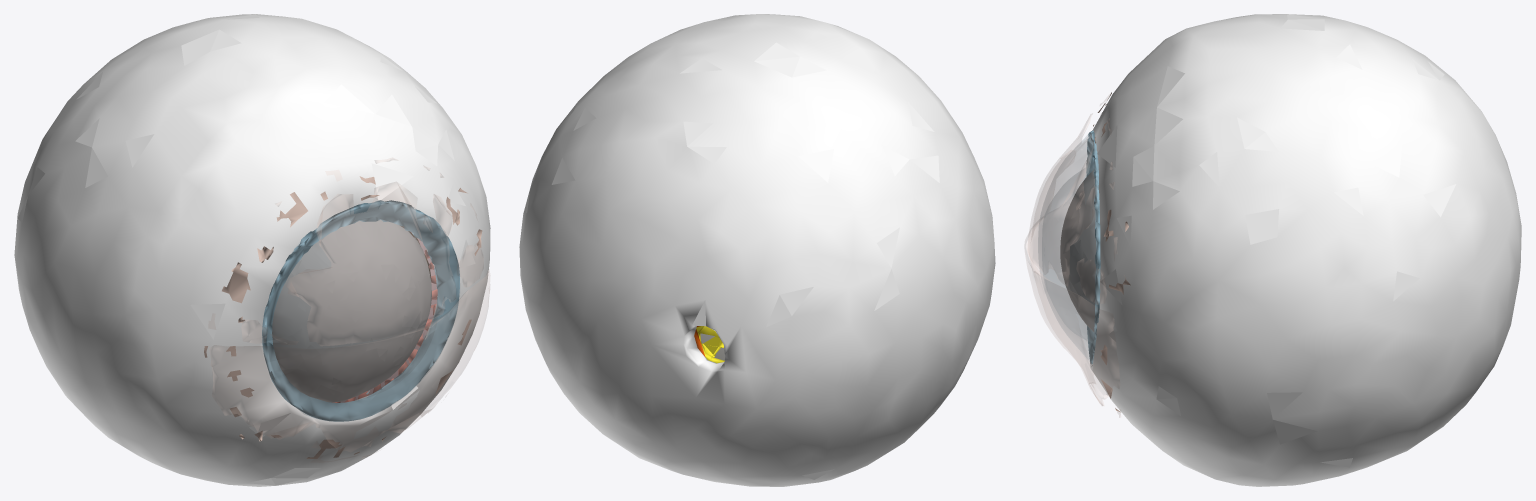
Rendered from 3d-vh-m-eye-l-20.glb.
The picture shows the model from 3 angles, left to right: view 1: azimuth 30°, elevation 25°; view 2: azimuth 150°, elevation 25°; view 3: azimuth 270°, elevation 25°; orthographic projection.
Visible parts, largest first — view 1: VH_M_sclera_L, VH_M_cornea_L, VH_M_palpebral_conjunctiva_of_lower_eyelid_L, VH_M_aqueous_humor_L, VH_M_palpebral_conjunctiva_of_upper_eyelid_L, VH_M_corneo_scleral_junction_L, VH_M_bulbar_conjunctiva_L, VH_M_ciliary_muscle_L; view 2: VH_M_sclera_L; view 3: VH_M_sclera_L, VH_M_cornea_L, VH_M_palpebral_conjunctiva_of_upper_eyelid_L, VH_M_palpebral_conjunctiva_of_lower_eyelid_L, VH_M_aqueous_humor_L, VH_M_corneo_scleral_junction_L, VH_M_bulbar_conjunctiva_L.
Part boxes in pixels (x1,y1,x2,y2): VH_M_sclera_L: [14, 14, 490, 486]; VH_M_cornea_L: [262, 202, 459, 421]; VH_M_palpebral_conjunctiva_of_lower_eyelid_L: [209, 270, 489, 462]; VH_M_aqueous_humor_L: [272, 220, 431, 402]; VH_M_palpebral_conjunctiva_of_upper_eyelid_L: [209, 158, 483, 345]; VH_M_corneo_scleral_junction_L: [262, 200, 459, 421]; VH_M_bulbar_conjunctiva_L: [204, 176, 482, 458]; VH_M_ciliary_muscle_L: [333, 232, 437, 402]; VH_M_sclera_L: [519, 14, 995, 486]; VH_M_sclera_L: [1090, 14, 1521, 486]; VH_M_cornea_L: [1038, 132, 1098, 363]; VH_M_palpebral_conjunctiva_of_upper_eyelid_L: [1028, 95, 1116, 304]; VH_M_palpebral_conjunctiva_of_lower_eyelid_L: [1025, 227, 1120, 417]; VH_M_aqueous_humor_L: [1060, 169, 1096, 331]; VH_M_corneo_scleral_junction_L: [1086, 130, 1100, 363]; VH_M_bulbar_conjunctiva_L: [1093, 92, 1130, 412].
Bounding box in the file's own units: 0.0245 × 0.0244 × 0.0258.
